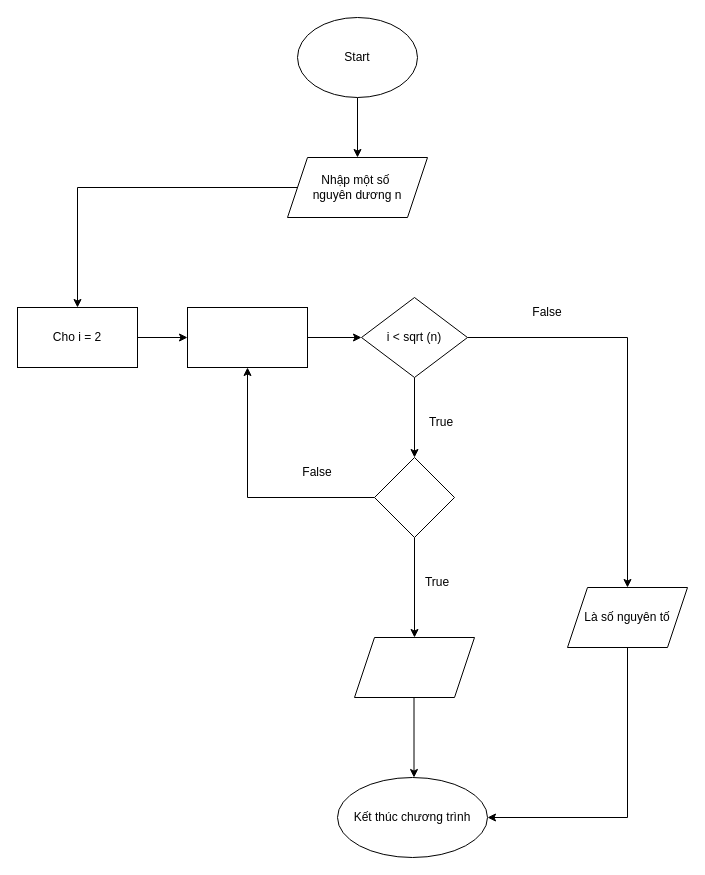
Image size: 705x875. Some labels were removed from this diagram. Here are the shapes that lost their labels. From the top down, the centre of each, then its label:
At (247,337): "i++".
At (414,497): "n%i==0".
At (414,667): "Không phải là số nguyên tố".
